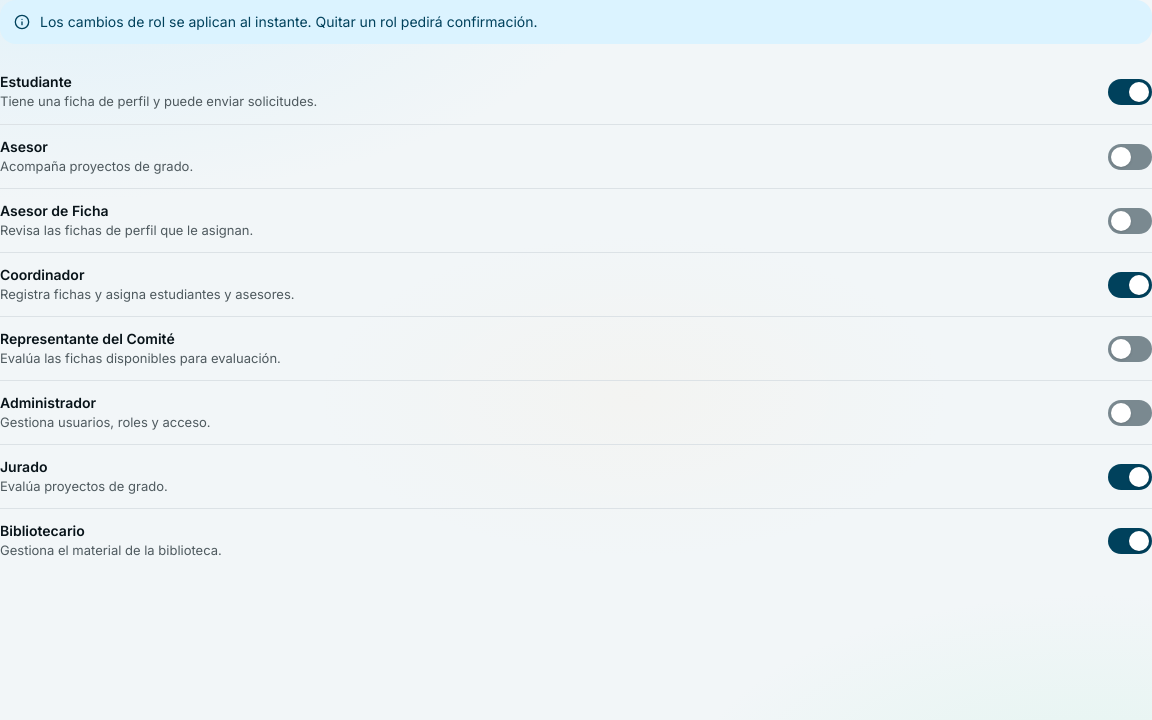
Scenario: EditarUsuarioRoles › un usuario jurado abre con Jurado encendido y habilitado, y al apagarlo pide confirmación, quita el rol y avisa
Click the switch named "Jurado" in the row of "Evalúa proyectos de grado." at (1130, 476), box [1108,464,1151,490]
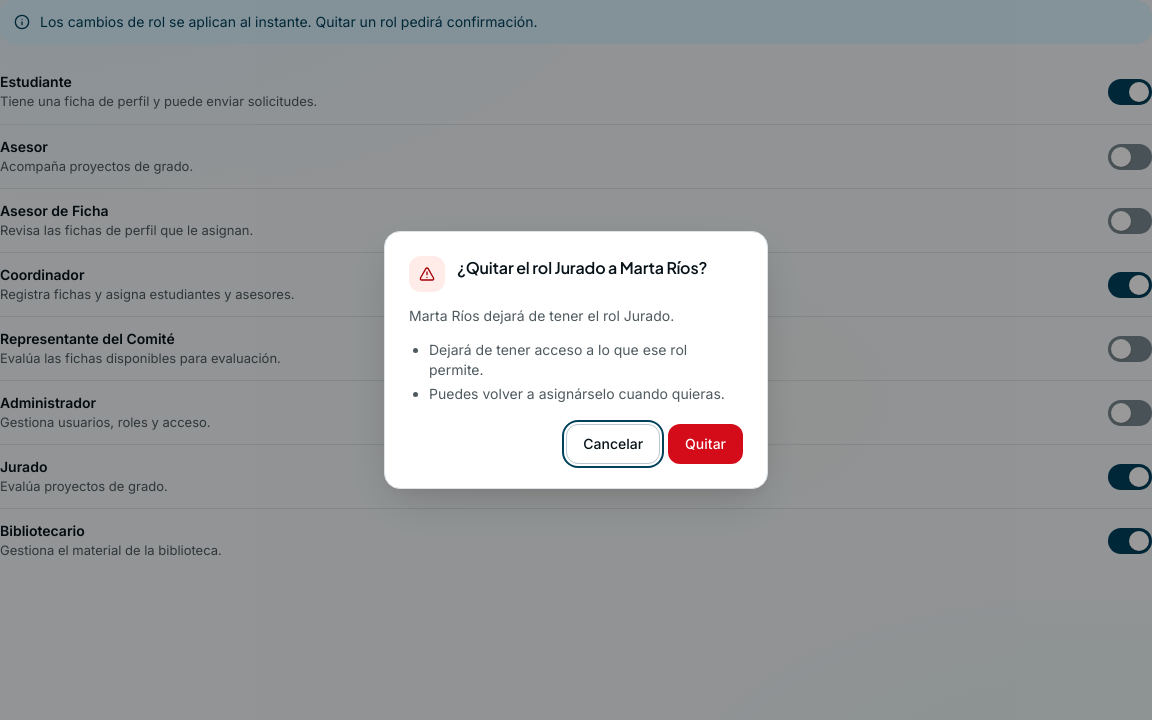
Click the button "Quitar" at (706, 444), box [668,424,743,464]
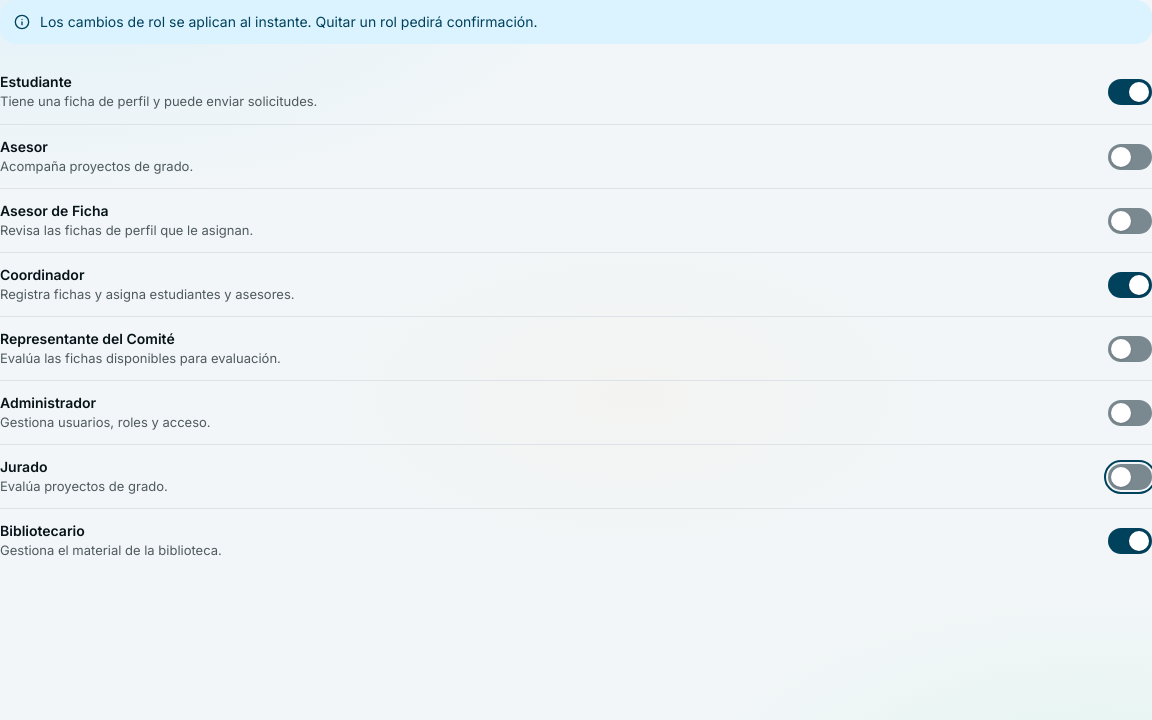
Expected: the switch named "Jurado" in the row of "Evalúa proyectos de grado." is not checked, [1108,464,1151,490]
Expected: the dialog is gone
